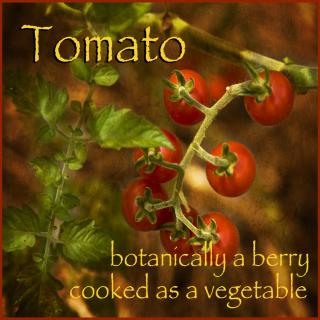tomato: (185, 211, 239, 269), (132, 126, 185, 185), (161, 70, 211, 126), (205, 140, 254, 197), (154, 204, 202, 260), (120, 177, 168, 231), (246, 72, 294, 122)
